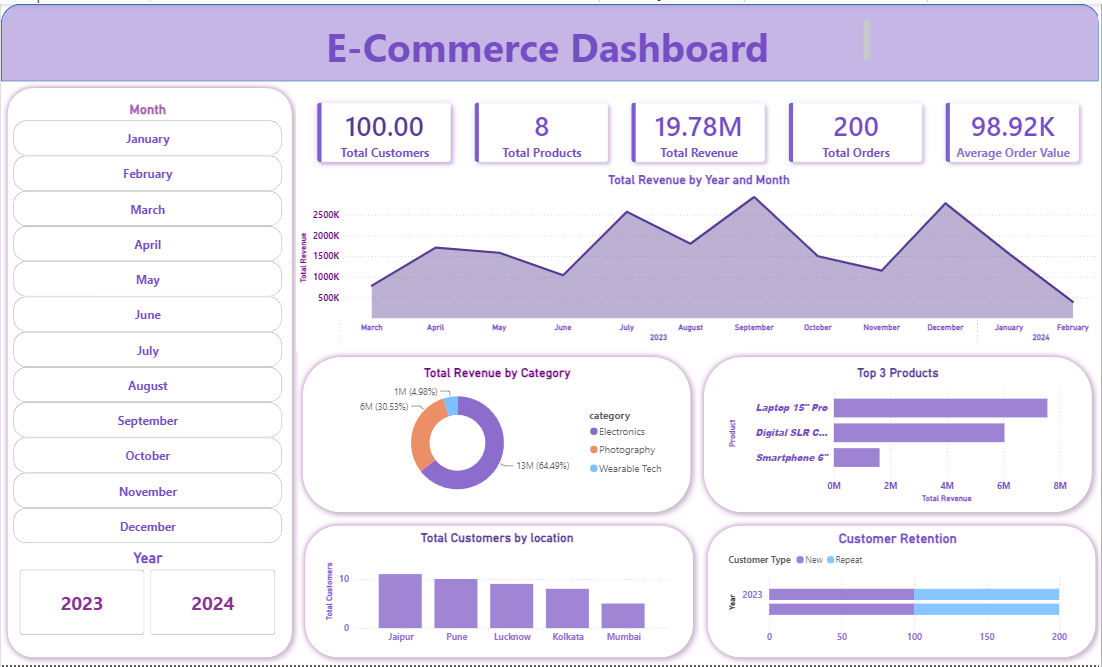

The dashboard page shown, as its layout file describes it:
{"tool":"powerbi","page":{"name":"Page 1","canvas":[1500,900],"ordinal":0},"visuals":[{"type":"shape","box":[0,105.6,405.3,793.6],"z":0},{"type":"shape","box":[405.3,701.6,546.7,197.5],"z":1000},{"type":"shape","box":[953.7,701.6,546.7,197.5],"z":2000},{"type":"shape","box":[948.6,471.7,546.7,229.9],"z":3000},{"type":"cardVisual","fields":{"Data":["customers.Total Customers","products.Products","orders.Total Revenue","orders.Total Orders","orders.Average Order Value"]},"box":[401.9,105.6,1098.4,139.6],"z":4000},{"type":"lineChart","fields":{"Y":["orders.Total Revenue"],"Category":["orders.order_date.Variation.Date Hierarchy.Year","orders.order_date.Variation.Date Hierarchy.Month"]},"box":[401.9,229.9,1098.4,243.5],"z":5000},{"type":"shape","box":[401.9,471.7,546.7,229.9],"z":6000},{"type":"donutChart","title":"Total Revenue by Category","fields":{"Y":["Sum(orderdetails.total_price_per_product)"],"Category":["products.category"]},"box":[437.7,492.2,476.8,192.4],"z":7000},{"type":"barChart","title":"Top 3 Products","fields":{"Category":["products.name"],"Y":["Sum(orderdetails.total_price_per_product)"]},"box":[986,492.2,471.7,192.4],"z":8000},{"type":"barChart","title":"Customer Retention","fields":{"Category":["orders.order_date.Variation.Date Hierarchy.Year","orders.order_date.Variation.Date Hierarchy.Month"],"Series":["orders.Customer Type"],"Y":["CountNonNull(customers.customer_id)"]},"box":[986,717,471.7,163.5],"z":9000},{"type":"clusteredColumnChart","fields":{"Y":["customers.Total Customers"],"Category":["customers.location"]},"box":[437.7,717,476.8,163.5],"z":10000},{"type":"advancedSlicerVisual","fields":{"Values":["orders.order_date.Variation.Date Hierarchy.Month"]},"box":[11.9,132.8,376.4,609.7],"z":11000},{"type":"shape","box":[0,0,1496.9,105.6],"z":12000},{"type":"textbox","box":[308.2,17,880.5,71.5],"z":13000},{"type":"advancedSlicerVisual","fields":{"Values":["orders.order_date.Variation.Date Hierarchy.Year"]},"box":[20.4,742.5,359.3,122.6],"z":13001}]}

Visuals, with their boxes in screenshot pixels (x1, y1, x2, y2), scaled from the page's 1500x900 canvas onto the 1102x667 screenshot:
shape: (x1=0, y1=78, x2=298, y2=666)
shape: (x1=298, y1=520, x2=699, y2=666)
shape: (x1=701, y1=520, x2=1101, y2=666)
shape: (x1=697, y1=350, x2=1099, y2=520)
cardVisual - customers.Total Customers x products.Products: (x1=295, y1=78, x2=1101, y2=182)
lineChart - orders.Total Revenue x orders.order_date.Variation.Date Hierarchy.Year: (x1=295, y1=170, x2=1101, y2=351)
shape: (x1=295, y1=350, x2=697, y2=520)
"Total Revenue by Category" donutChart: (x1=322, y1=365, x2=672, y2=507)
"Top 3 Products" barChart: (x1=724, y1=365, x2=1071, y2=507)
"Customer Retention" barChart: (x1=724, y1=531, x2=1071, y2=653)
clusteredColumnChart - customers.Total Customers x customers.location: (x1=322, y1=531, x2=672, y2=653)
advancedSlicerVisual - orders.order_date.Variation.Date Hierarchy.Month: (x1=9, y1=98, x2=285, y2=550)
shape: (x1=0, y1=0, x2=1100, y2=78)
textbox: (x1=226, y1=13, x2=873, y2=66)
advancedSlicerVisual - orders.order_date.Variation.Date Hierarchy.Year: (x1=15, y1=550, x2=279, y2=641)
